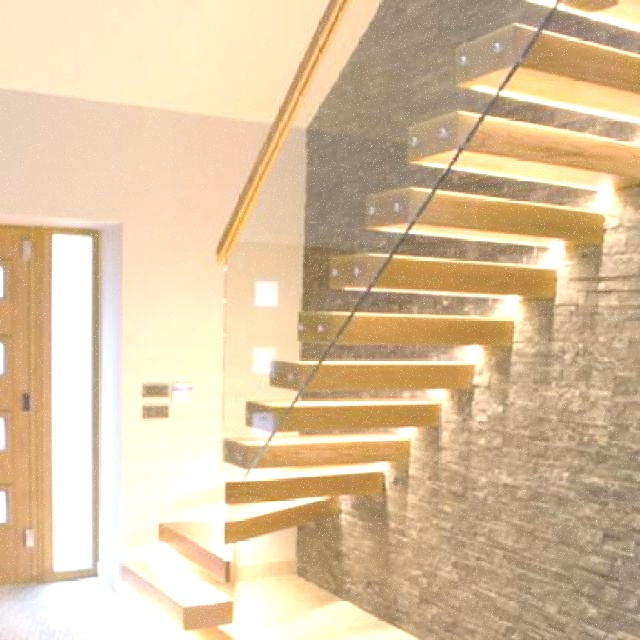stair: (117, 0, 638, 628)
